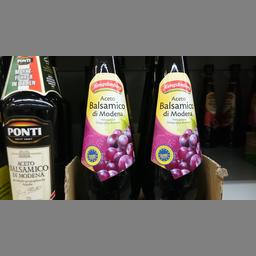vinegar: (142, 56, 209, 198), (73, 54, 138, 196), (0, 54, 63, 198)
